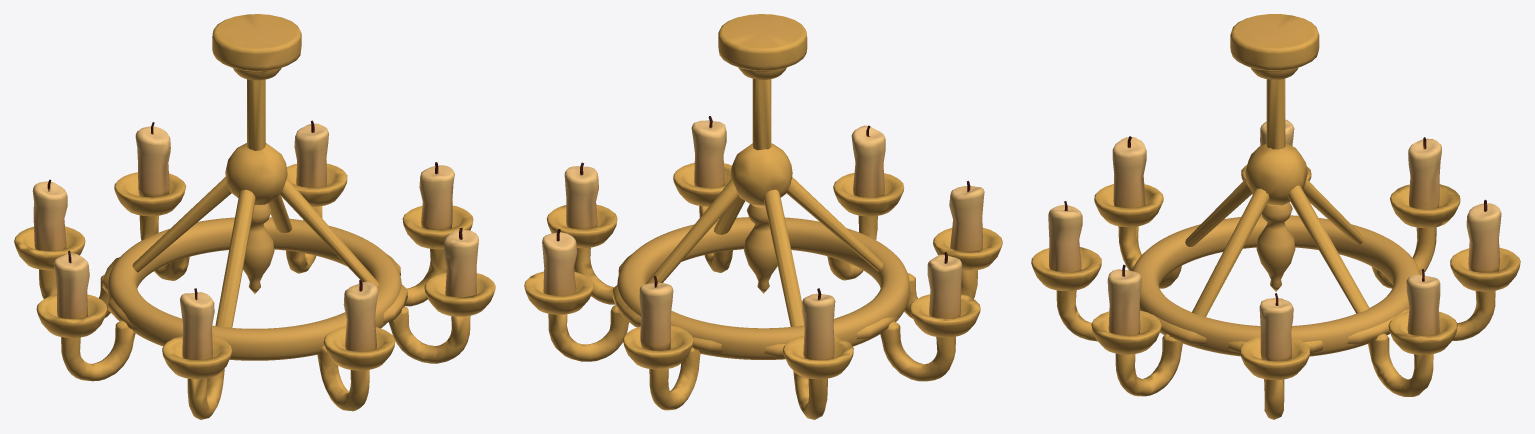
Rendered from brass_chandelier_v2.glb.
The picture shows the model from 3 angles, left to right: view 1: azimuth 30°, elevation 25°; view 2: azimuth 150°, elevation 25°; view 3: azimuth 270°, elevation 25°; orthographic projection.
Visible parts, largest first — view 1: chandelier_mesh; view 2: chandelier_mesh; view 3: chandelier_mesh.
Boxes of the visible parts, <box> form: chandelier_mesh: <box>14,14,495,419</box>; chandelier_mesh: <box>524,14,1002,419</box>; chandelier_mesh: <box>1031,14,1520,419</box>.
Bounding box in the file's own units: 3.16 × 2.21 × 3.16.
2 materials, 1 textured.
